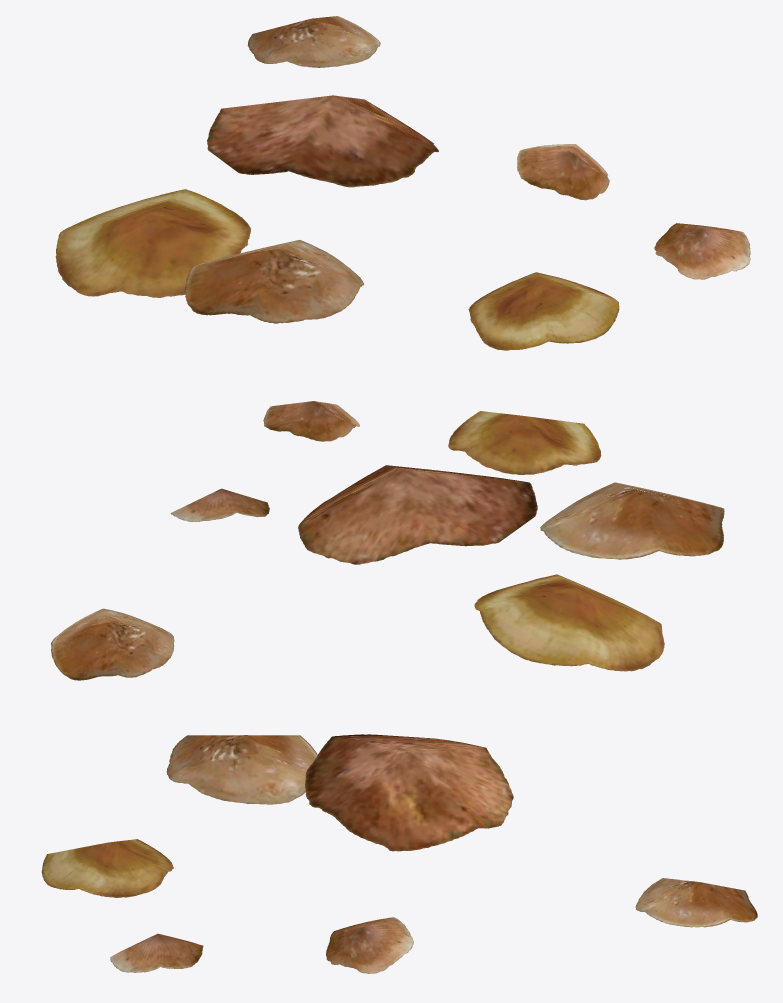
File: fngi_mushroom_clump_a1_l2.fbx
3 renders of one model, top to bottom at view 1: azimuth 30°, elevation 25°; view 2: azimuth 150°, elevation 25°; view 3: azimuth 270°, elevation 25°, orthographic. The views are drawn at different scales.
Parts seen in each view (by area): view 1: mesh_node; view 2: mesh_node; view 3: mesh_node.
Part boxes in pixels (x1,y1,x2,y2): mesh_node: (55,16,750,350); mesh_node: (51,401,724,680); mesh_node: (41,734,757,973).
Size of the model in its own units: 1.17 by 0.2812 by 1.48.
